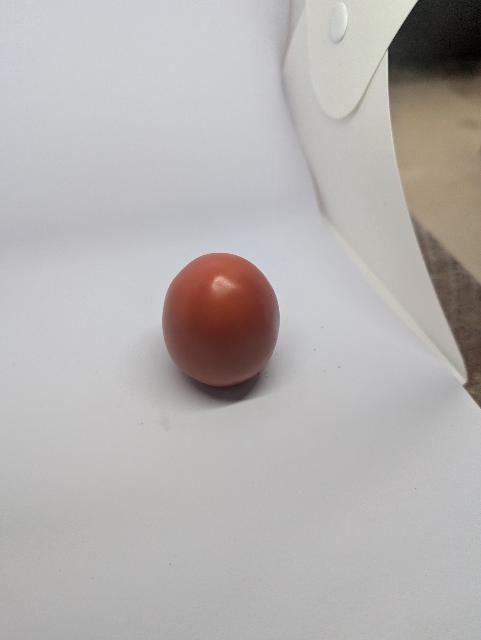red: (157, 250, 295, 417)
